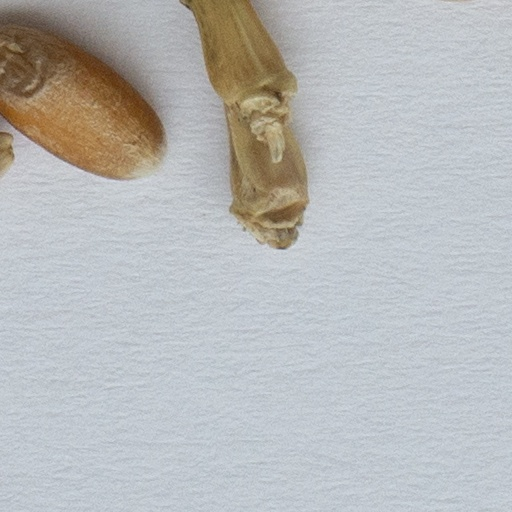Peel-poly: (185, 0, 306, 248)
